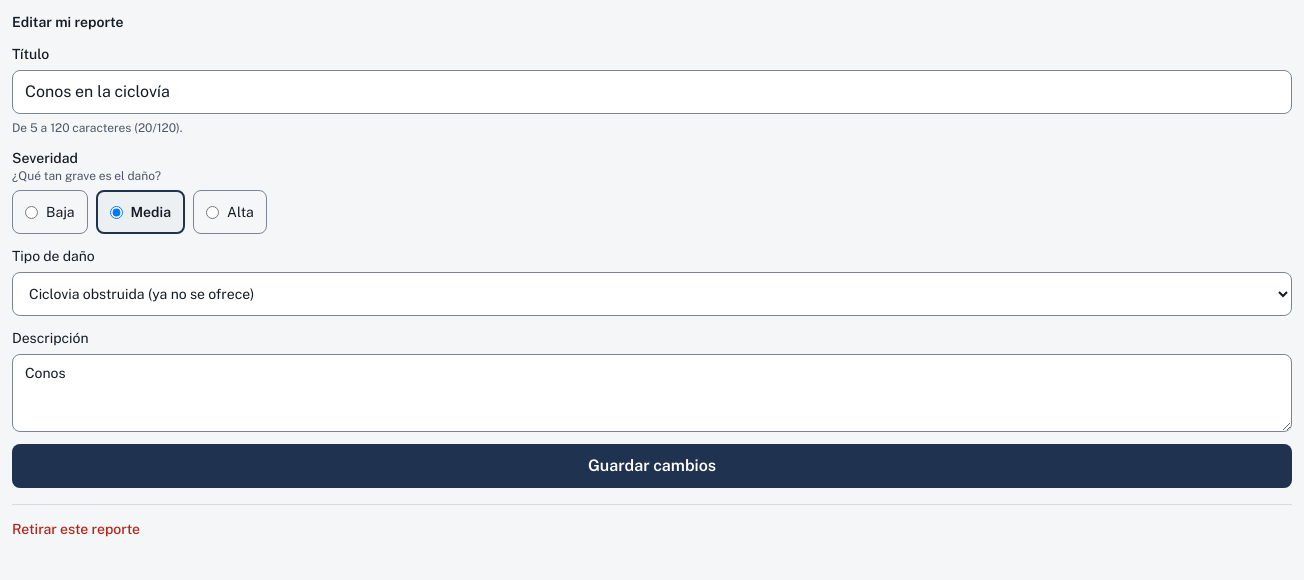
Test: EditarReporte (US-08 con categoría desactivada, US-29) › la moderación (NC-10c) › 400 TEXTO_NO_PERMITIDO en el título: el error va en el título
Type " y algo más" into the field labelled "Título" at (652, 92), box [12,70,1292,114]
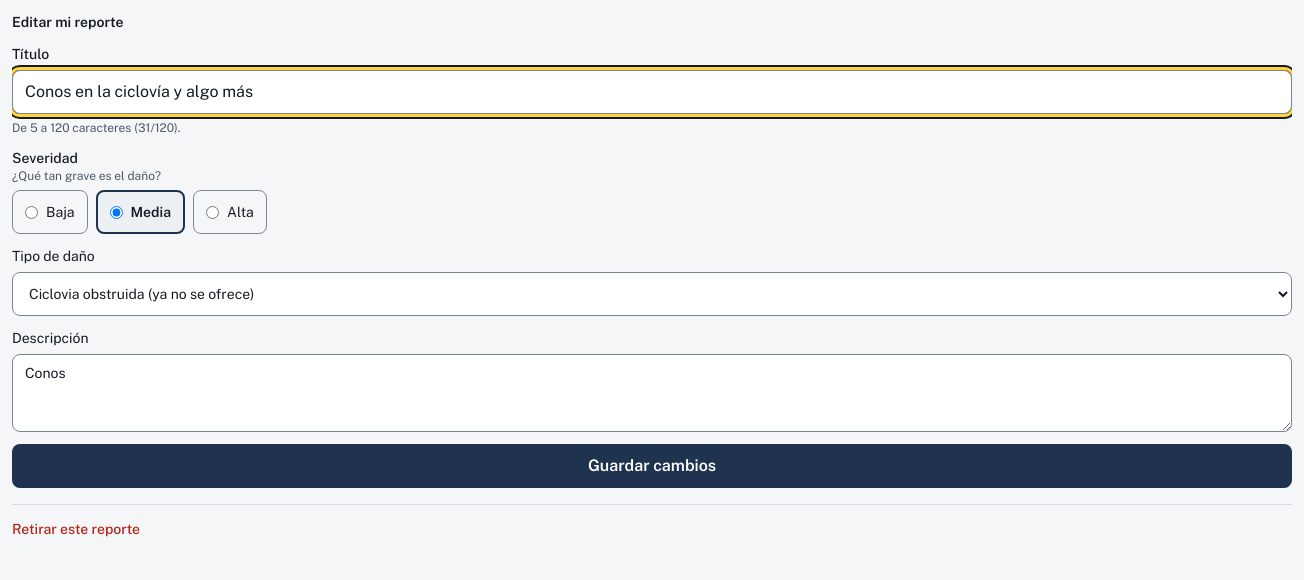
Click the button "Guardar cambios" at (652, 466), box [12,444,1292,488]
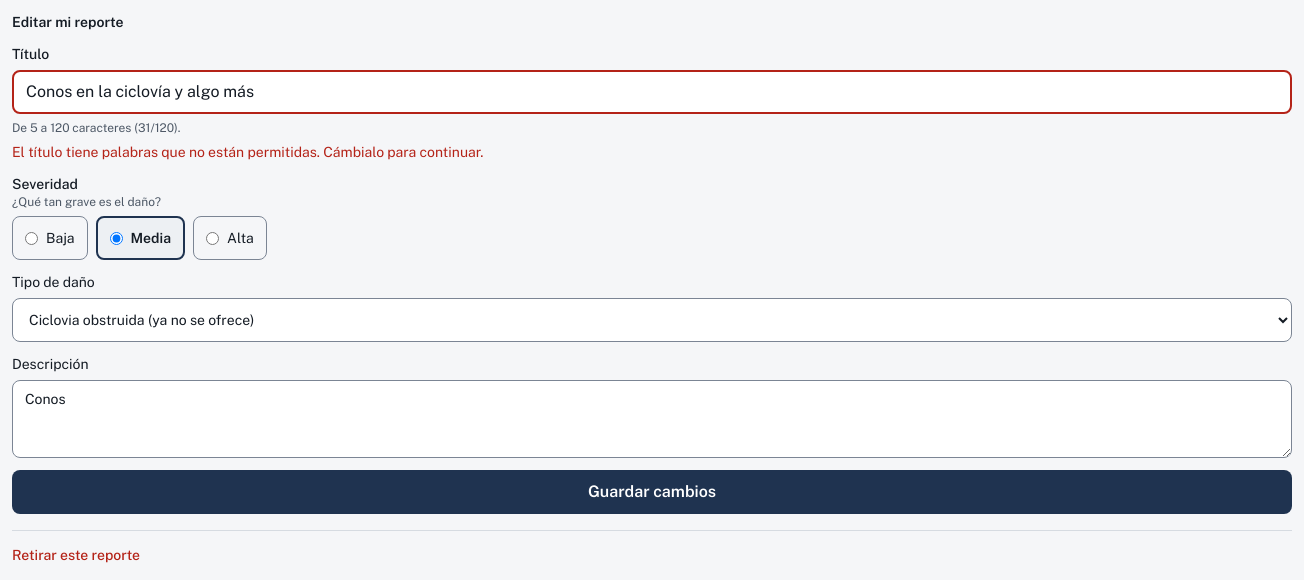
Check: the text "El título tiene palabras que no están permitidas. Cámbialo para continuar." is shown, box [12,144,483,160]
